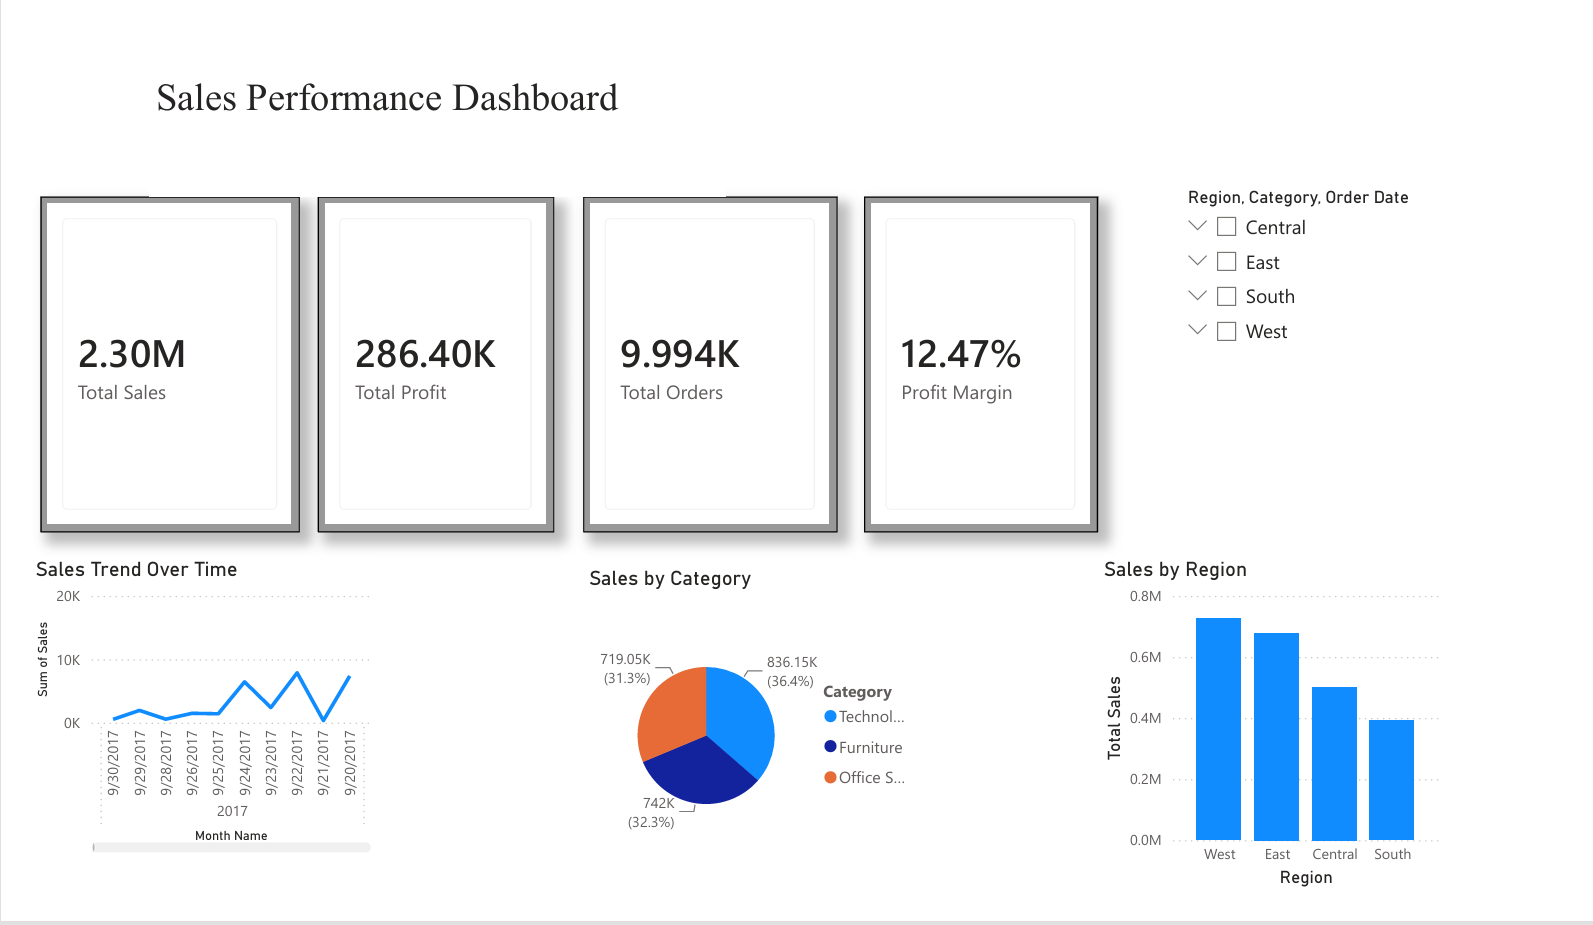

What the dashboard file says about the page in this screenshot:
{"tool":"powerbi","page":{"name":"Page 1","canvas":[1280,720],"ordinal":0},"visuals":[{"type":"cardVisual","fields":{"Data":["Sample - Superstore.Total Profit"]},"box":[240,139.8,196.5,279.7],"z":0},{"type":"clusteredColumnChart","title":"Sales by Region","fields":{"Y":["Sample - Superstore.Total Sales"],"Category":["Sample - Superstore.Region"]},"box":[890.1,440.3,289.1,279.7],"z":1000},{"type":"cardVisual","fields":{"Data":["Sample - Superstore.Total Orders"]},"box":[461.1,139.8,211.7,279.7],"z":2000},{"type":"cardVisual","fields":{"Data":["Sample - Superstore.Total Sales"]},"box":[9.4,139.8,215.4,279.7],"z":3000},{"type":"cardVisual","fields":{"Data":["Sample - Superstore.Profit Margin"]},"box":[695.4,139.8,194.6,279.7],"z":4000},{"type":"pieChart","title":"Sales by Category","fields":{"Y":["Sum(Sample - Superstore.Sales)"],"Category":["Sample - Superstore.Category"]},"box":[461.1,447.9,289.1,264.6],"z":5000},{"type":"slicer","fields":{"Values":["Sample - Superstore.Region","Sample - Superstore.Category","Sample - Superstore.Order Date"]},"box":[952.4,126.6,300.5,279.7],"z":6000},{"type":"textbox","box":[100.2,34,480,105.8],"z":7000},{"type":"lineChart","title":"Sales Trend Over Time","fields":{"Y":["Sum(Sample - Superstore.Sales)"],"Category":["Sample - Superstore.Year","Sample - Superstore.Month Name"]},"box":[0,440.3,289.1,251.3],"z":8000}]}

Visuals, with their boxes in screenshot pixels (x1, y1, x2, y2):
cardVisual - Sample - Superstore.Total Profit: 317:195:550:526
"Sales by Region" clusteredColumnChart: 1087:550:1429:881
cardVisual - Sample - Superstore.Total Orders: 579:195:830:526
cardVisual - Sample - Superstore.Total Sales: 44:195:299:526
cardVisual - Sample - Superstore.Profit Margin: 856:195:1087:526
"Sales by Category" pieChart: 579:559:921:873
slicer - Sample - Superstore.Region x Sample - Superstore.Category: 1161:179:1516:510
textbox: 152:69:720:195
"Sales Trend Over Time" lineChart: 33:550:375:848
